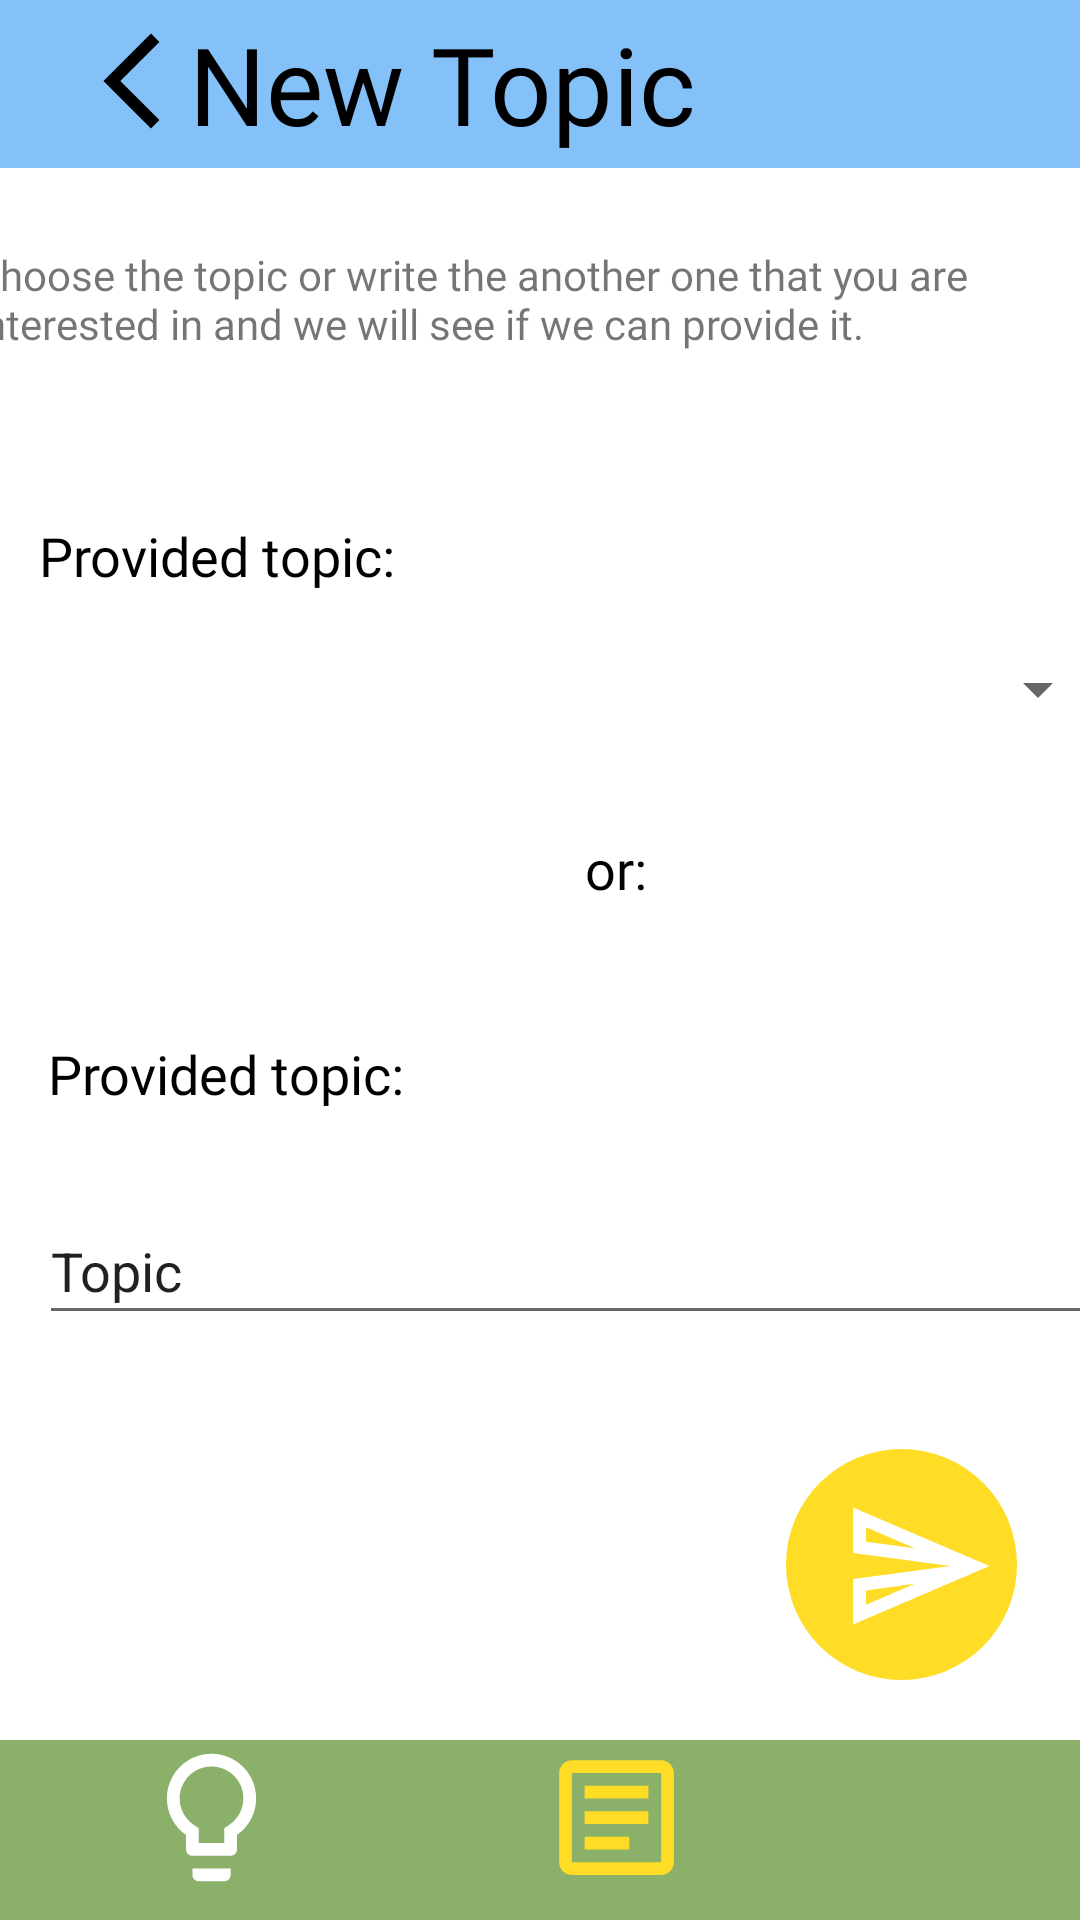

Named icons in this screenshot (1080x1920) and their bounding boxes, bbox=(x1, y1, x2, y2):
Fact: bbox=(167, 1753, 256, 1882)
Main articles: bbox=(559, 1760, 674, 1875)
